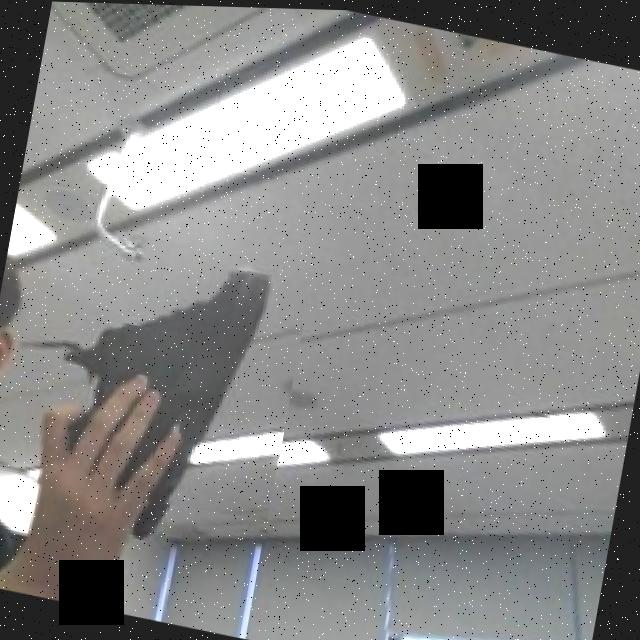shoe: (37, 221, 313, 531)
